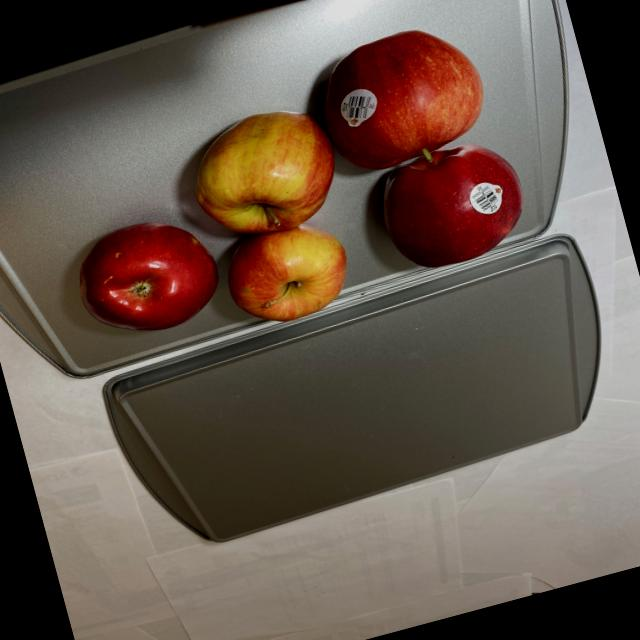apple: (32, 9, 542, 370)
